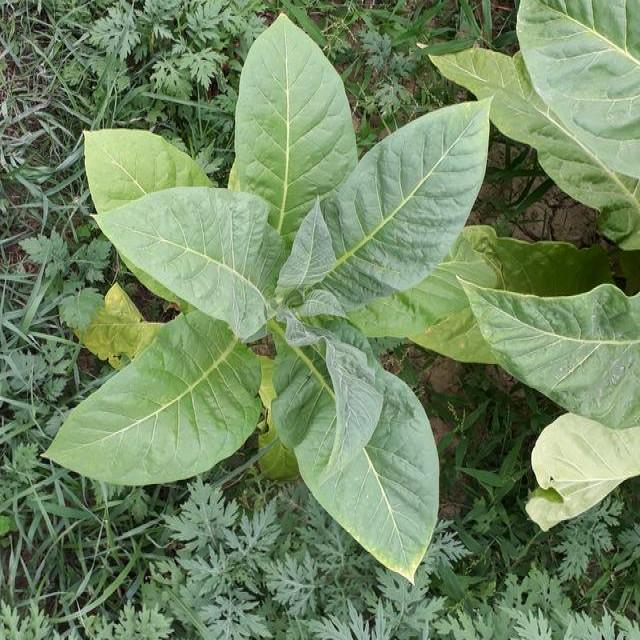crop: (58, 31, 478, 583), (471, 9, 640, 516)
